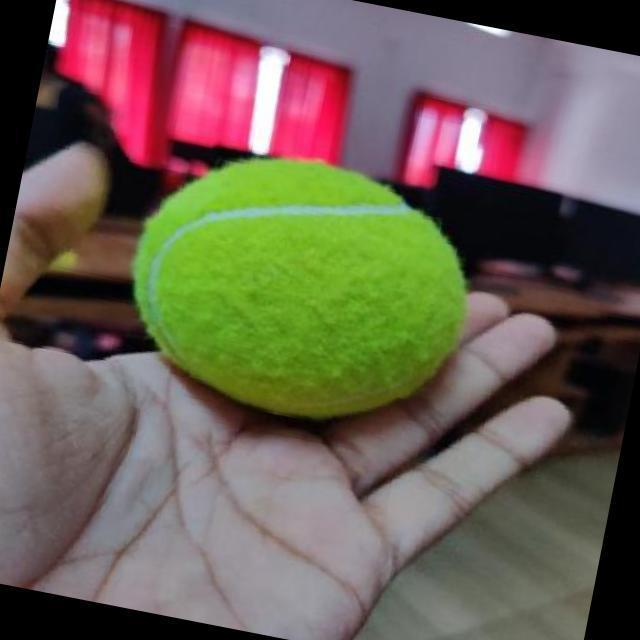-: (111, 127, 511, 450)
